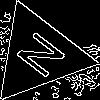N: (14, 29, 76, 87)
